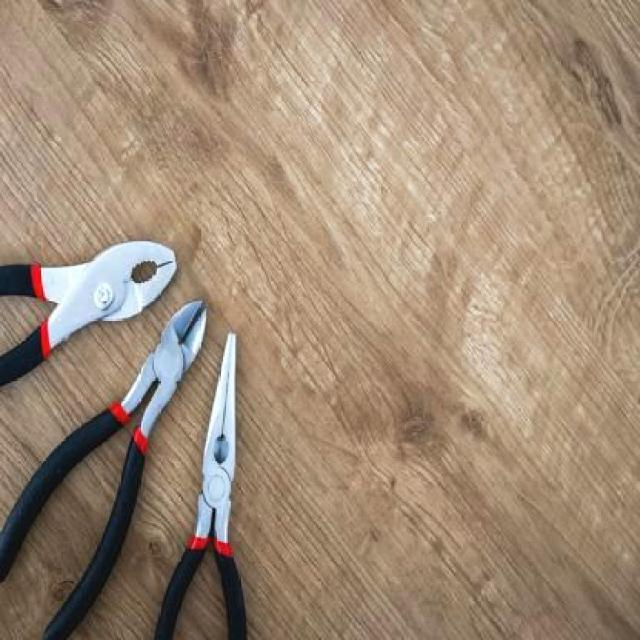pliers: (0, 295, 212, 638)
